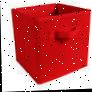cube: (12, 2, 92, 85)
